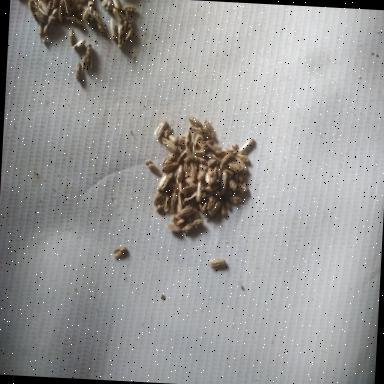pbw: (152, 119, 168, 140), (157, 170, 173, 191), (182, 217, 202, 233), (161, 137, 180, 153), (233, 154, 248, 172), (161, 150, 176, 168), (208, 198, 221, 218), (109, 16, 119, 42), (92, 10, 106, 28), (173, 164, 184, 186), (218, 170, 228, 194), (70, 14, 86, 29), (239, 137, 254, 153), (202, 120, 216, 137), (209, 256, 226, 270), (43, 15, 55, 34), (84, 43, 93, 68), (219, 151, 232, 168), (162, 190, 172, 212), (188, 160, 198, 182), (110, 6, 122, 24), (178, 205, 196, 217), (170, 187, 178, 213), (116, 23, 124, 48), (161, 162, 179, 172), (226, 193, 242, 204), (226, 176, 237, 192), (156, 195, 166, 212), (113, 246, 127, 258), (72, 38, 86, 50), (58, 0, 65, 23), (82, 4, 92, 20), (206, 194, 216, 210), (175, 134, 188, 146), (147, 162, 160, 174), (237, 182, 250, 194), (177, 148, 188, 162), (50, 3, 61, 17), (74, 62, 82, 81), (180, 184, 195, 194), (121, 3, 137, 12), (68, 28, 76, 46), (124, 28, 133, 44), (203, 140, 216, 151), (187, 116, 201, 126), (166, 222, 180, 232), (196, 180, 202, 202), (97, 22, 106, 36), (204, 172, 212, 186), (187, 126, 204, 132), (168, 134, 178, 144), (100, 0, 112, 8), (196, 156, 208, 164), (112, 0, 121, 10), (164, 125, 172, 136), (220, 202, 226, 216), (192, 150, 205, 156), (214, 148, 226, 154), (208, 166, 214, 176)
